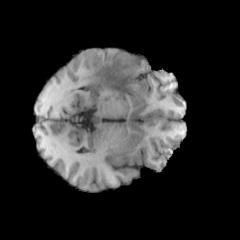glioma: (82, 52, 143, 92)
